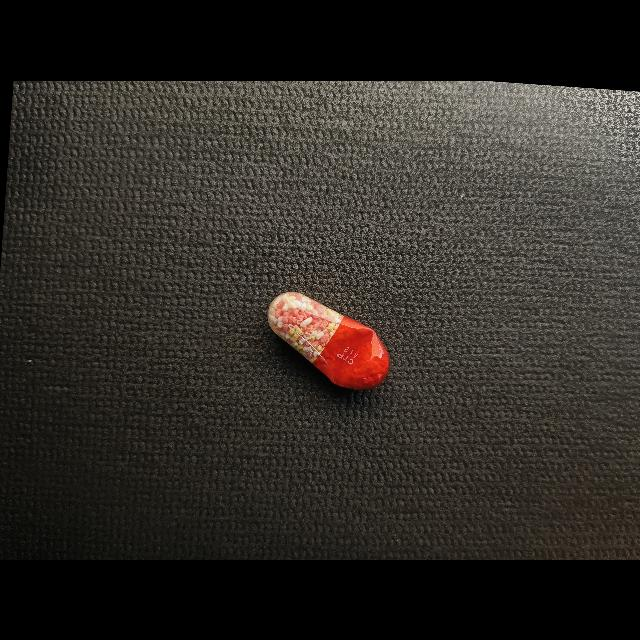Defective Capsule: (268, 291, 389, 389)
